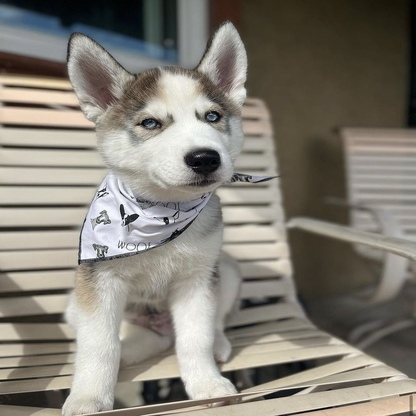husky: (56, 19, 287, 416)
